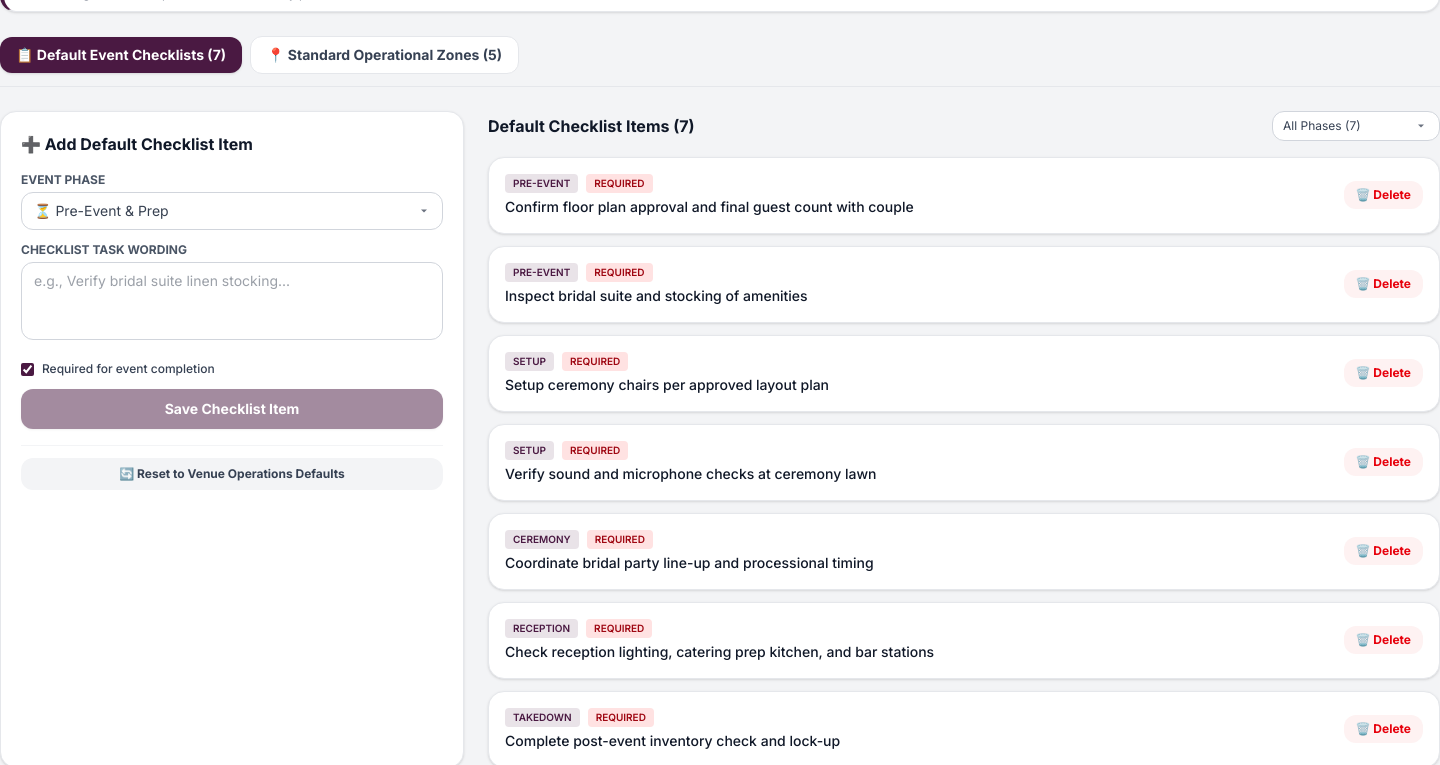
Test: OperationsSettingsManagement (#147) › renders default checklist items and allows adding a new checklist item
This screenshot has width=1440, height=765.
Expected: the text "Confirm floor plan approval and final guest count" is shown, [505,198,914,214]
Type "Inspect outdoor arbor floral arrangements" into the text box with placeholder "e.g., Verify bridal suite linen stocking..." at (232, 300), box [21,262,443,340]
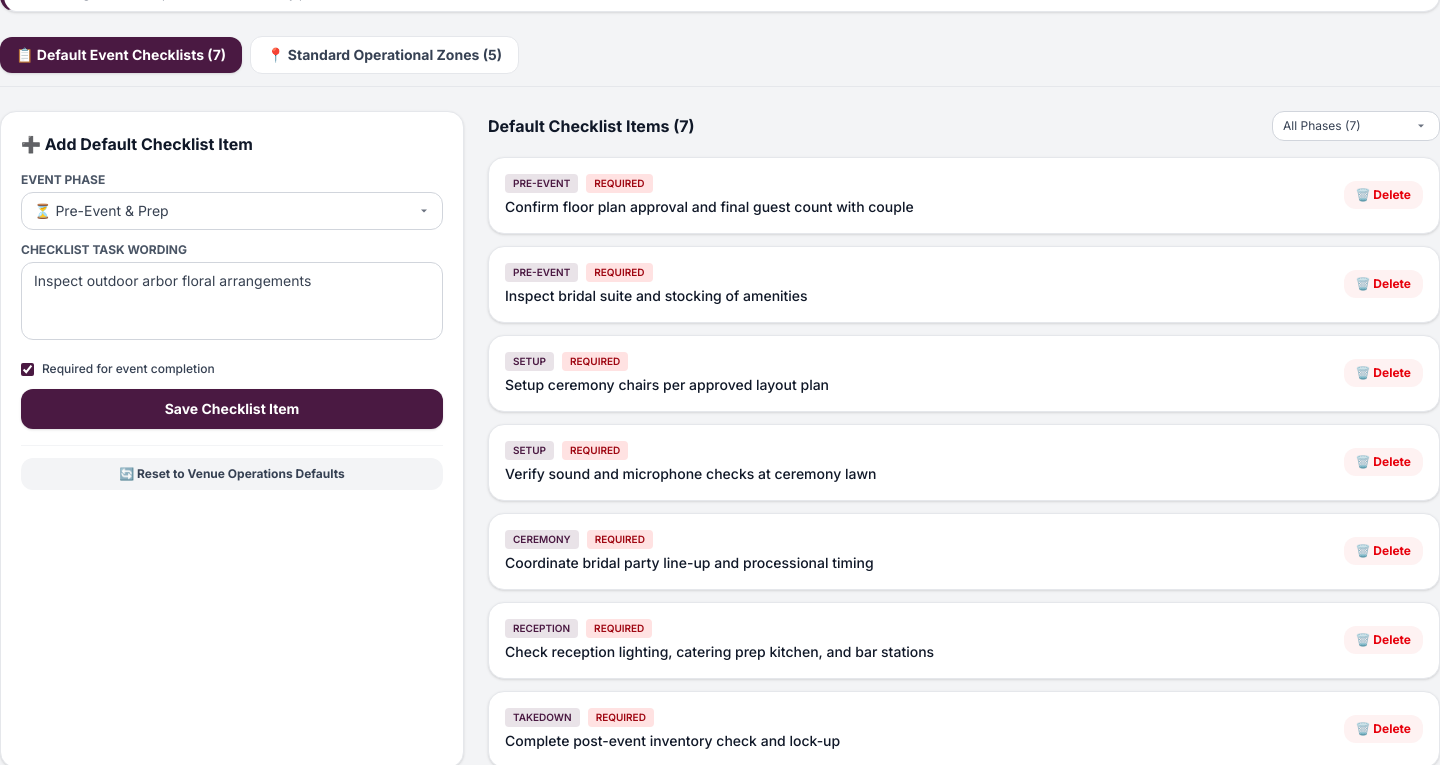
Click the button "Save Checklist Item" at (232, 409), box [21,389,443,429]
(page scrolled)
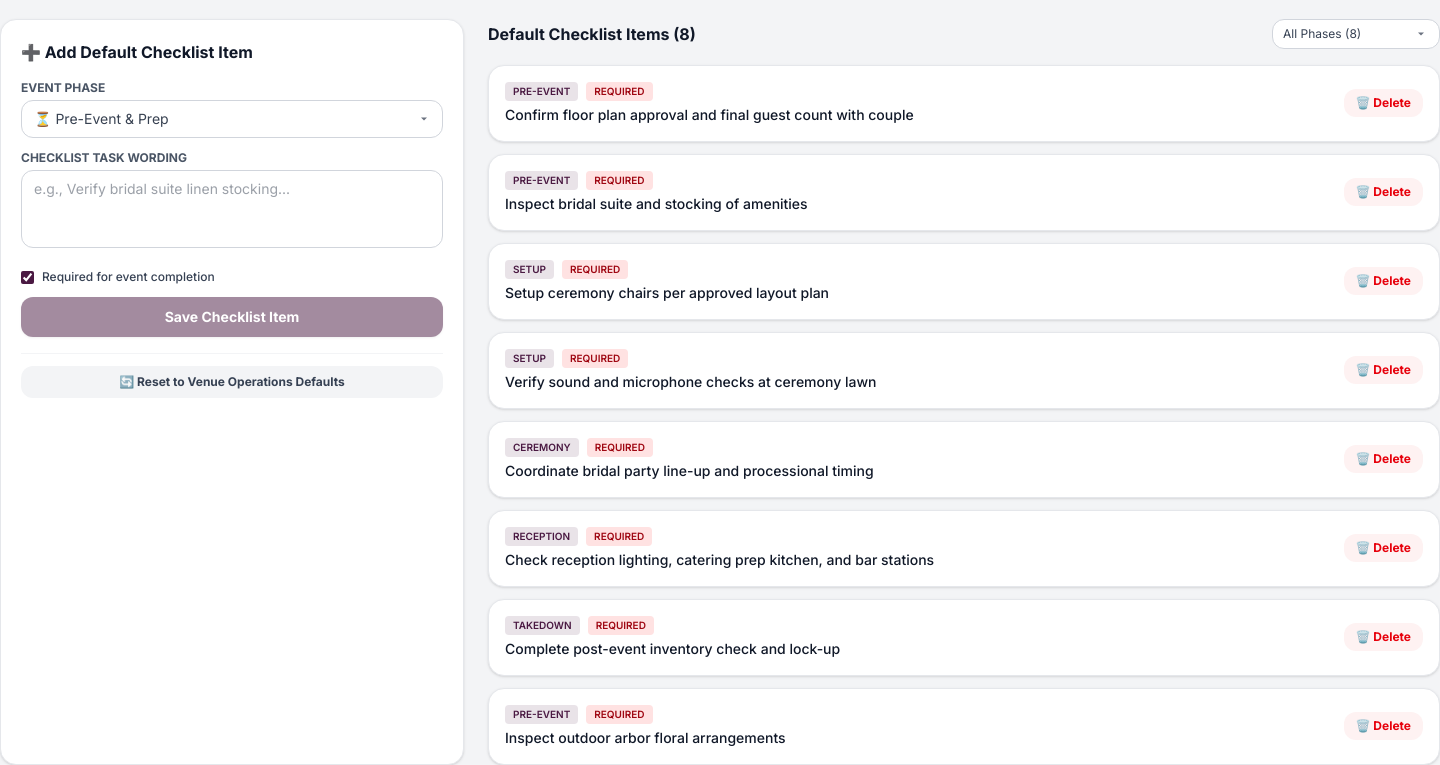
Now the text "Inspect outdoor arbor floral arrangements" is shown, box [505,728,786,748]
